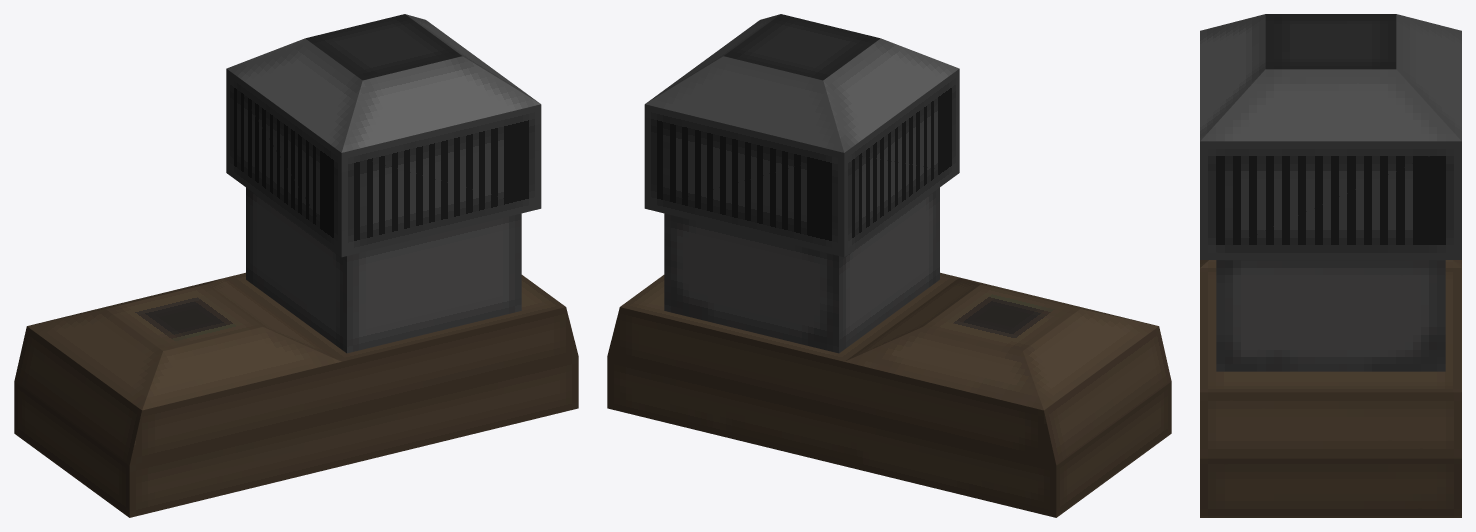
File: furnace.gltf
3 views of the same model, side by side, from view 1: azimuth 30°, elevation 25°; view 2: azimuth 150°, elevation 25°; view 3: azimuth 270°, elevation 25° (orthographic). The views are drawn at different scales.
Parts seen in each view (by area): view 1: main, hood, mesh; view 2: main, hood, mesh; view 3: hood, main, mesh.
Part boxes in pixels (x1,y1,x2,y2): main: [14, 272, 578, 517]; hood: [226, 14, 541, 257]; mesh: [246, 187, 521, 353]; main: [607, 272, 1171, 517]; hood: [644, 14, 959, 257]; mesh: [664, 187, 939, 353]; hood: [1200, 14, 1461, 259]; main: [1200, 260, 1461, 517]; mesh: [1216, 260, 1445, 371].
Bounding box in the file's own units: 2.25 × 1.69 × 1.
1 material, 1 textured.
